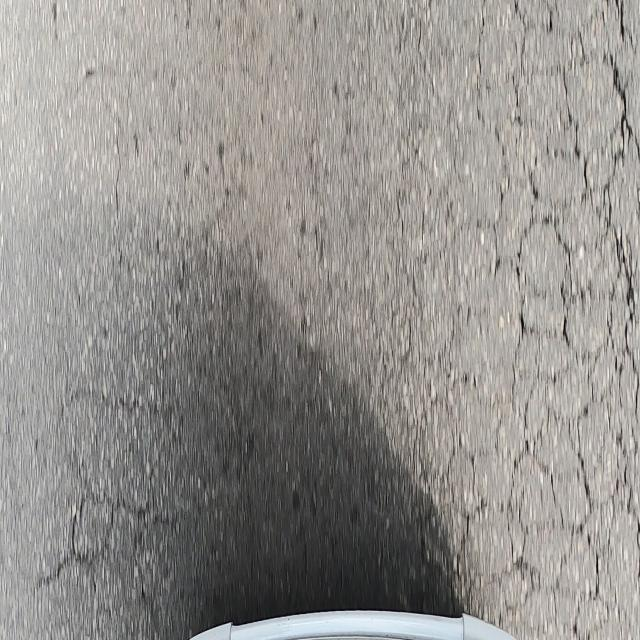Retak-Buaya: (466, 0, 640, 640)
